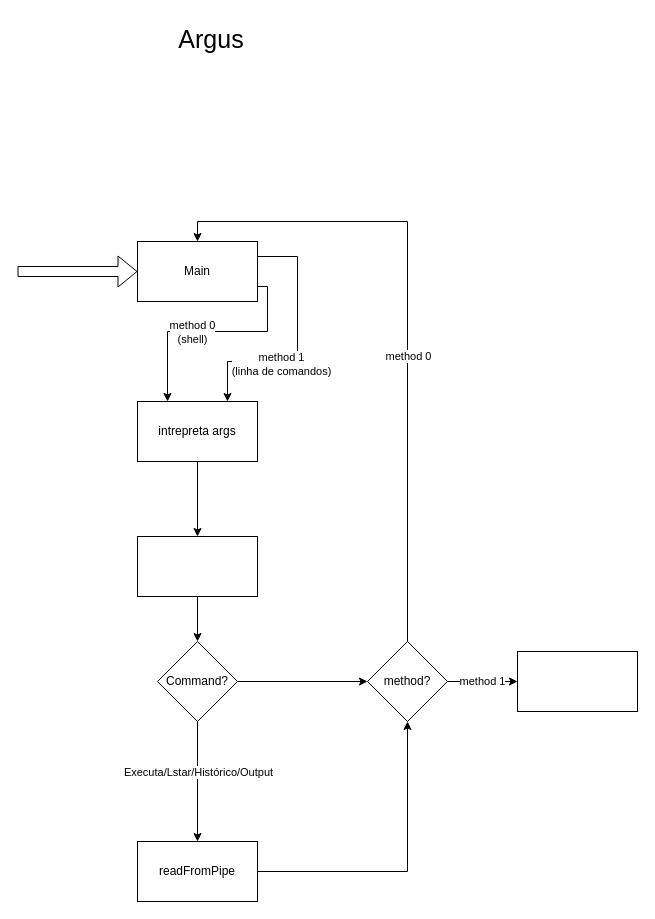
The diagram is 655 pixels wide and 919 high, and some of its shapes have lost their labels. The centre of each missing label's shape, as x and y in pixels:
"EXIT" goes at [577,681].
"sendMessage" goes at [197,566].
